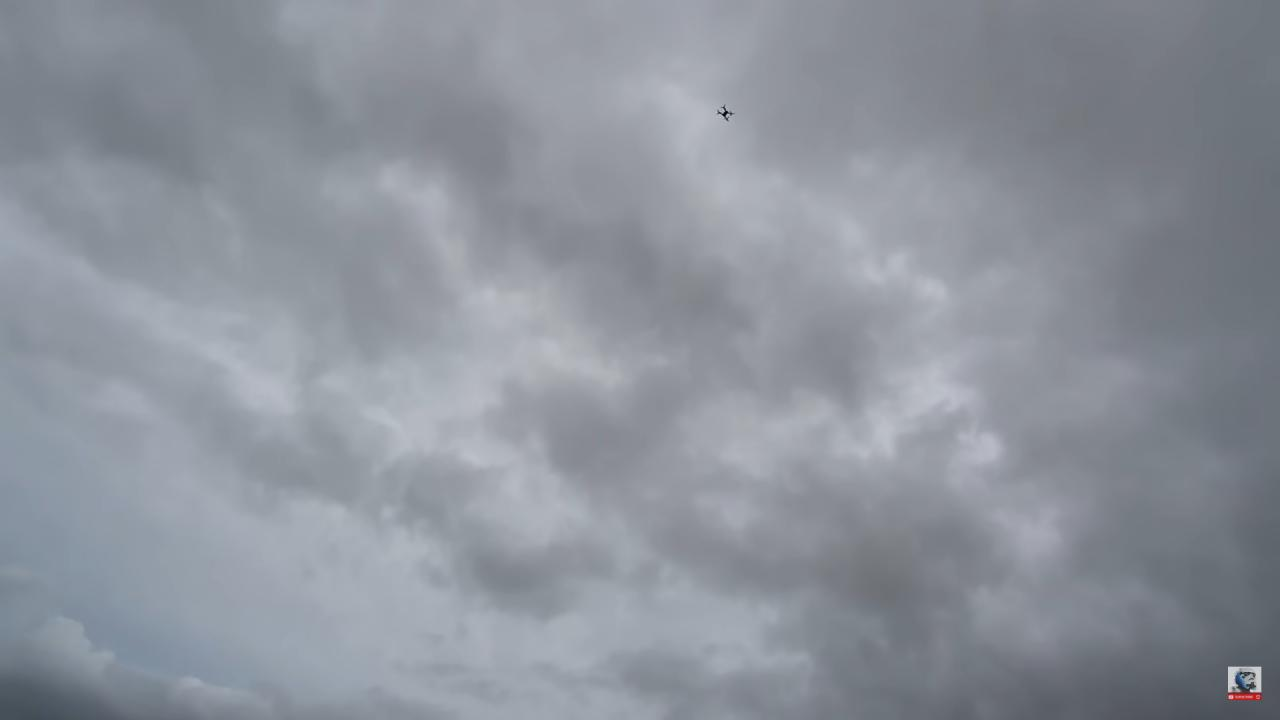Drone: (712, 100, 738, 123)
